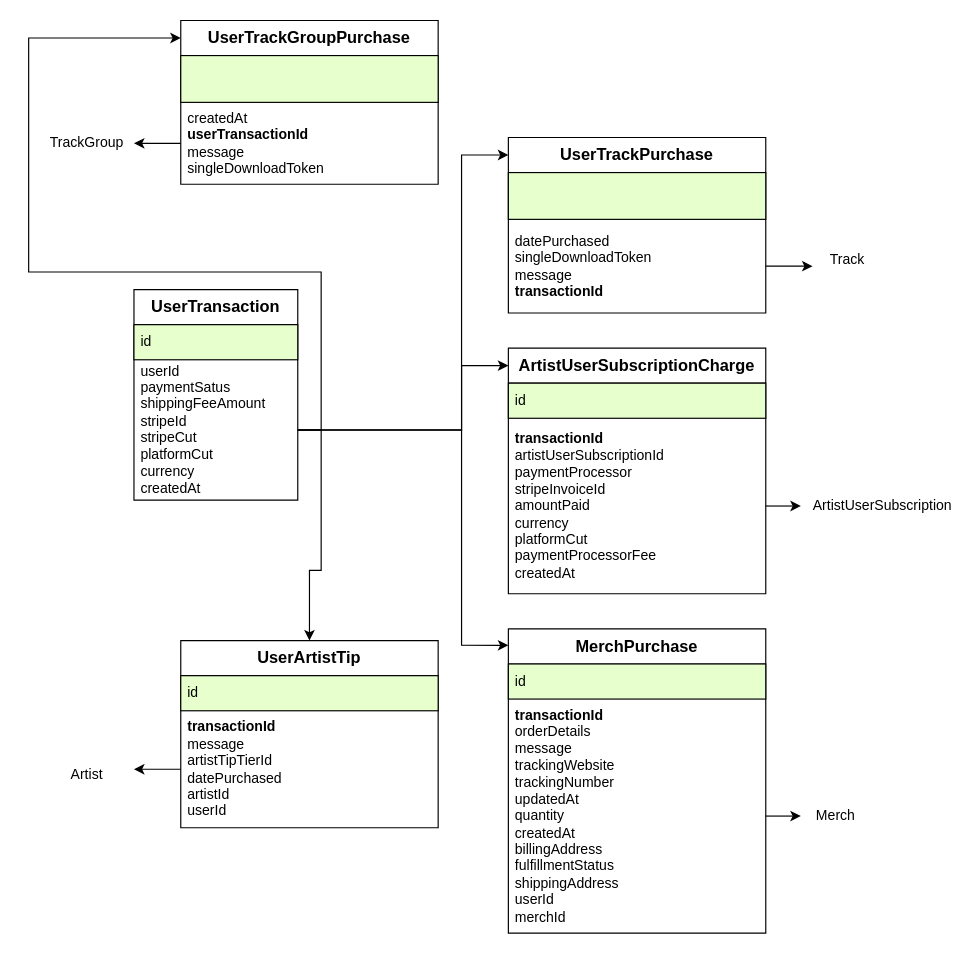
This 972x954 diagram has some shape labels left out. The centre of each missing label's shape, as x and y in pixels:
trackGroupId userId: the point at 309,78
userId trackId: the point at 636,195
